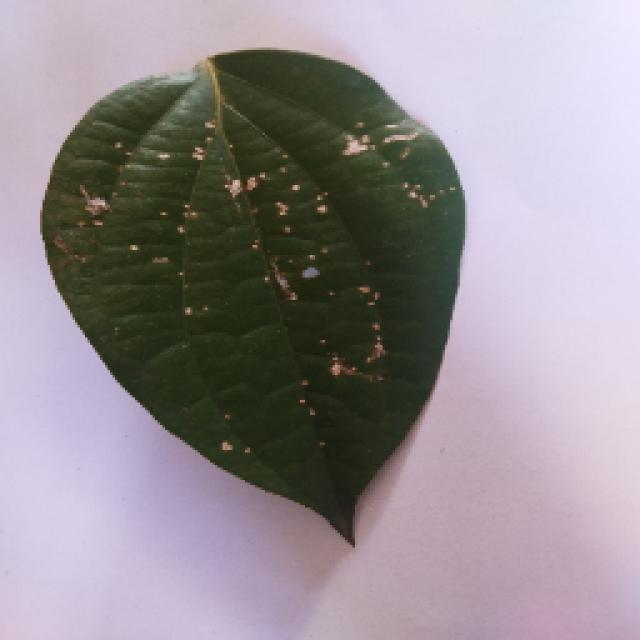pollu-disease: (30, 52, 480, 562)
